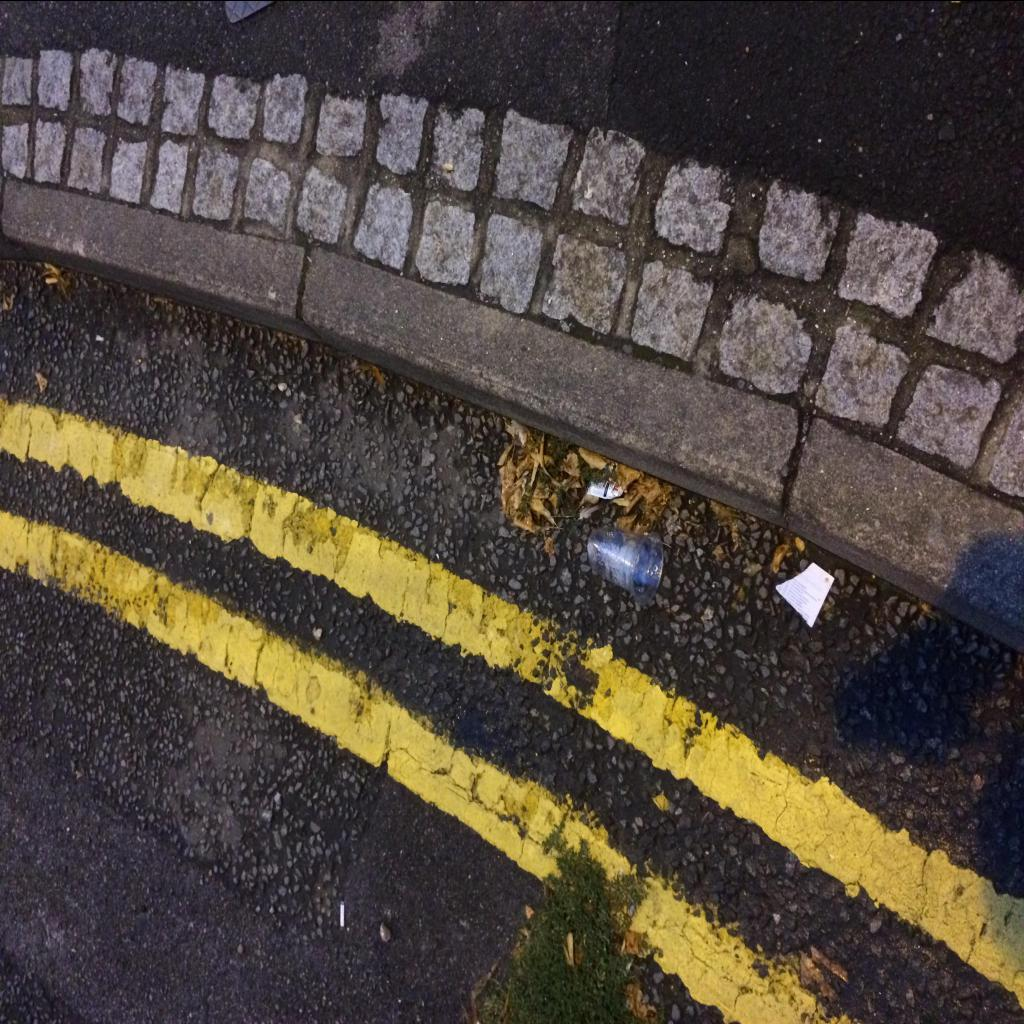Disposable plastic cup: (588, 526, 664, 606)
Normal paper: (776, 561, 834, 627)
Unlabeled litter: (587, 463, 624, 498)
